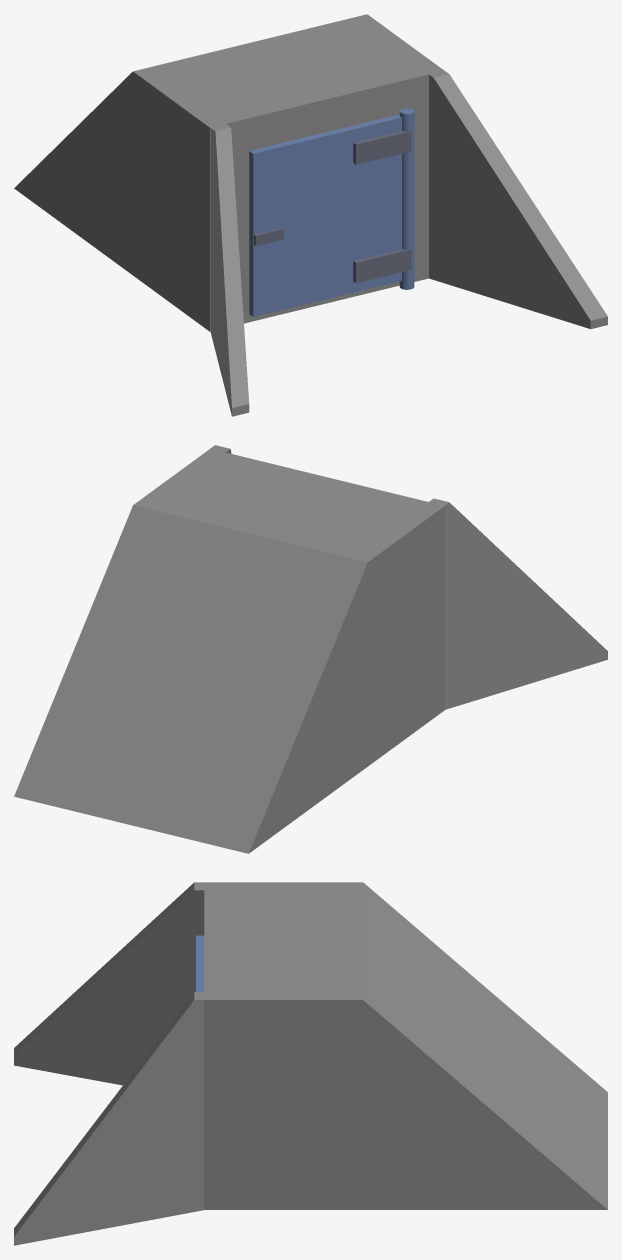
Rendered from bunker2.fbx.
The picture shows the model from 3 angles, top to bottom: view 1: azimuth 30°, elevation 25°; view 2: azimuth 150°, elevation 25°; view 3: azimuth 270°, elevation 25°; orthographic projection. The views are drawn at different scales.
Parts seen in each view (by area): view 1: bunker; view 2: bunker; view 3: bunker.
Part boxes in pixels (bbox=[...]): bunker: bbox=[14, 14, 607, 416]; bunker: bbox=[14, 445, 607, 853]; bunker: bbox=[14, 882, 607, 1245].
Bounding box in the file's own units: 482 × 250 × 641.
